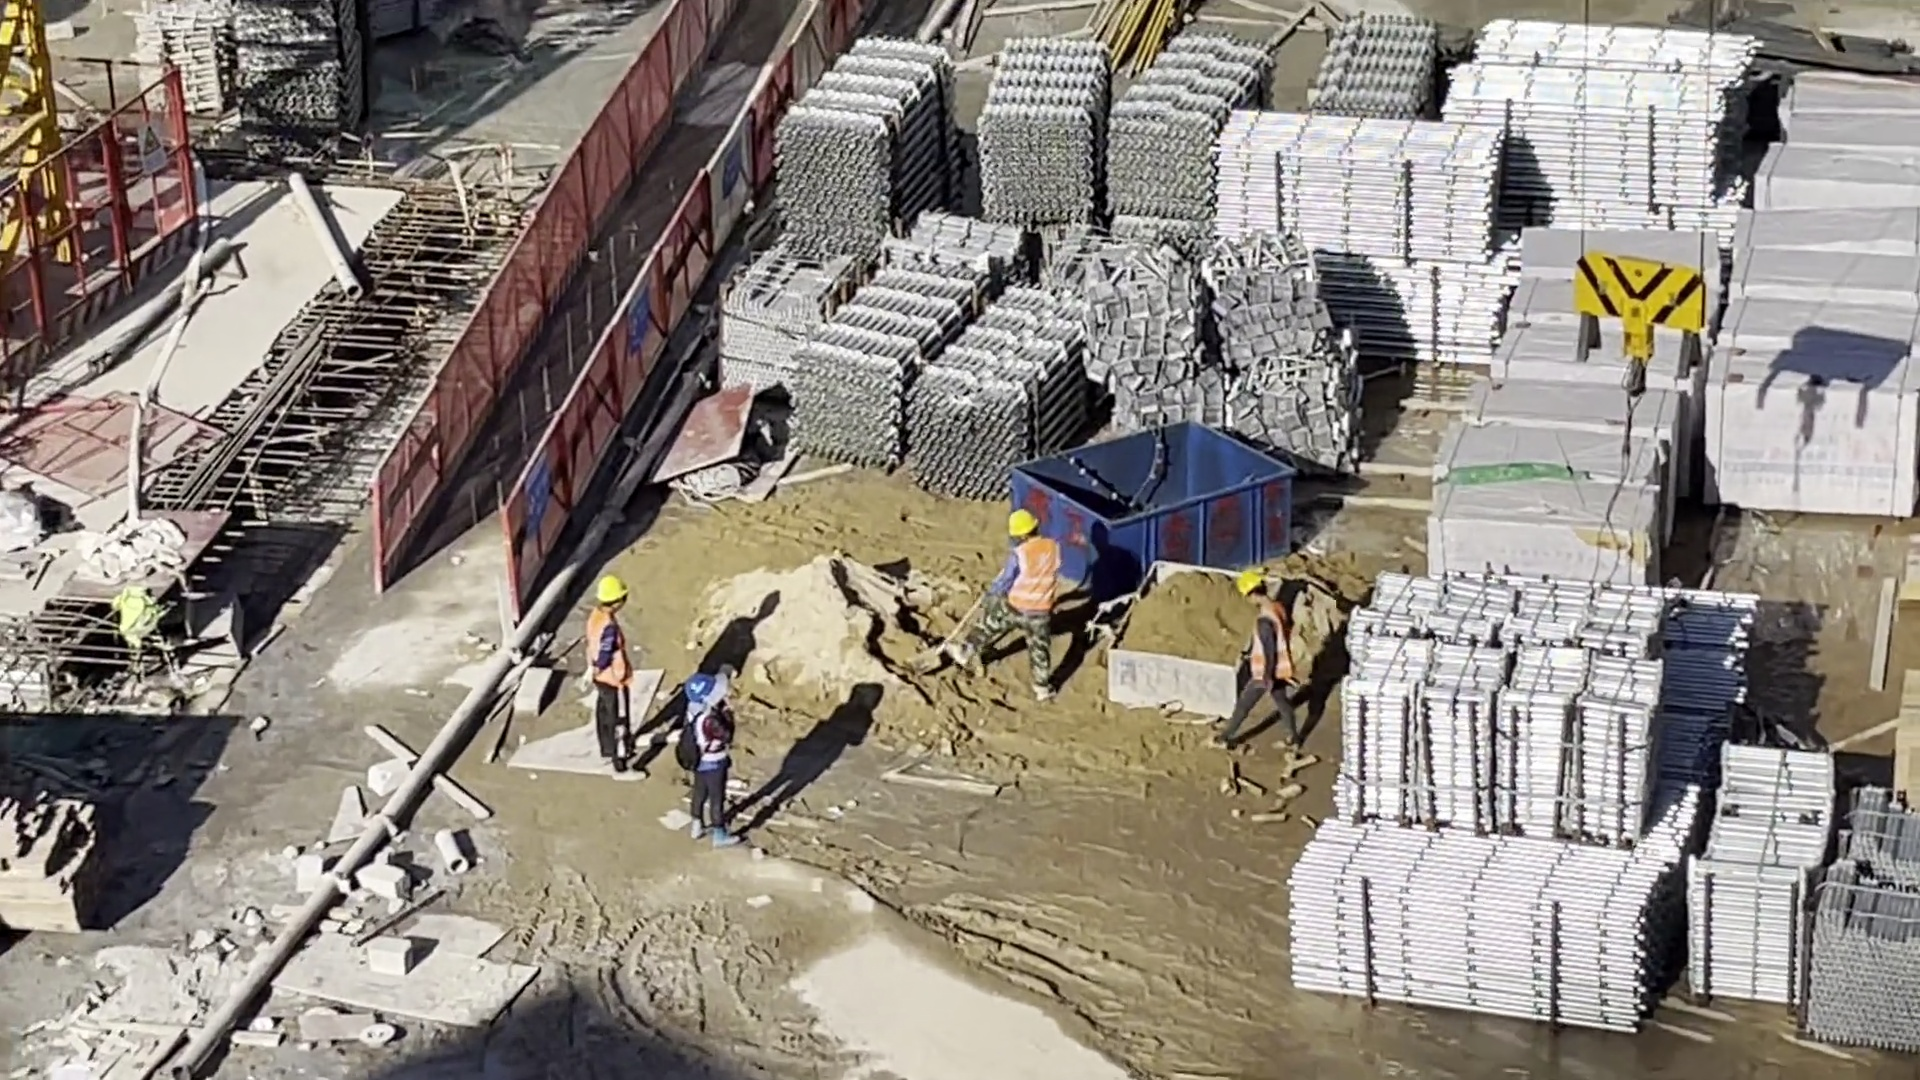fence: (358, 1, 818, 602)
helmet: (586, 565, 638, 624), (687, 667, 736, 720), (1005, 500, 1043, 543), (1237, 569, 1278, 608)
hook: (1552, 229, 1713, 401)
hopper: (1015, 419, 1276, 563), (1103, 545, 1252, 709)
person: (572, 576, 660, 787), (983, 502, 1066, 697), (678, 670, 753, 846), (1234, 591, 1308, 755)
scaffold: (1342, 567, 1665, 1023), (1217, 113, 1488, 356), (981, 19, 1207, 255), (1484, 10, 1723, 222), (841, 238, 1019, 487), (1688, 745, 1829, 1003), (789, 6, 926, 248), (1839, 771, 1920, 1077), (1329, 10, 1412, 120)
vest: (1001, 538, 1068, 618), (580, 608, 638, 691), (1242, 606, 1296, 674)
